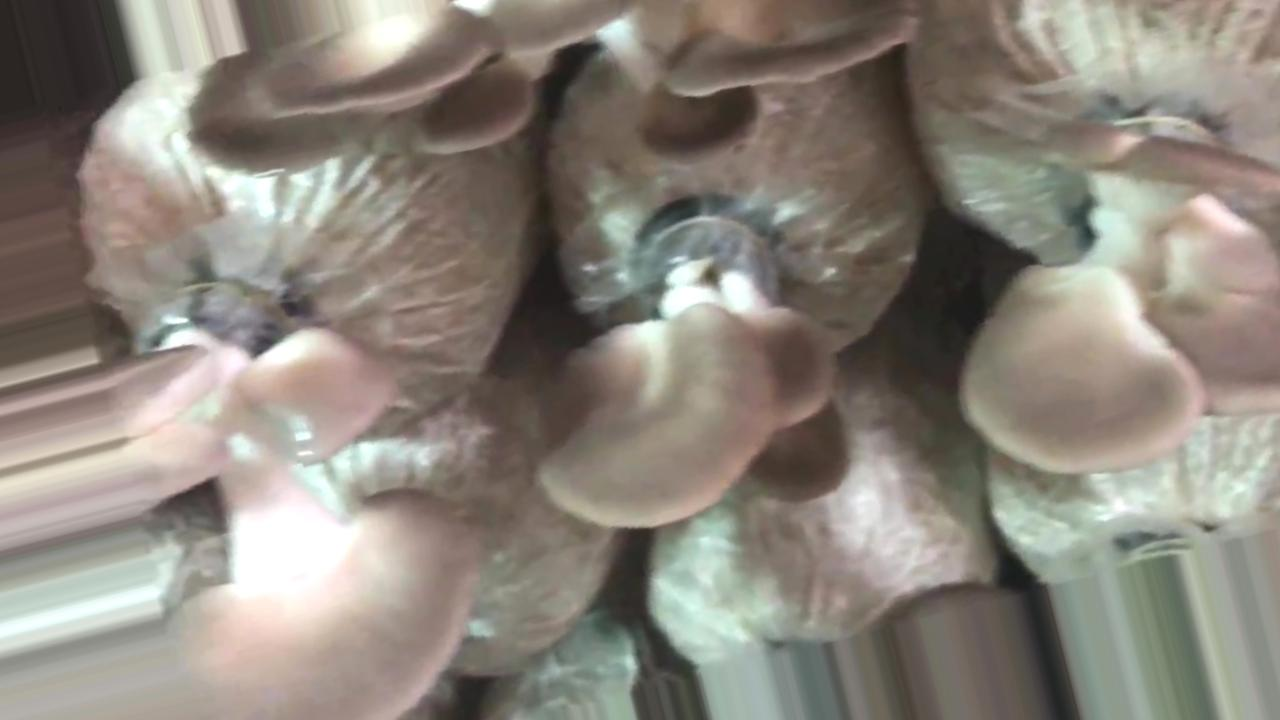nam: (155, 270, 480, 720), (166, 1, 918, 185), (959, 82, 1280, 472), (534, 206, 861, 535)
